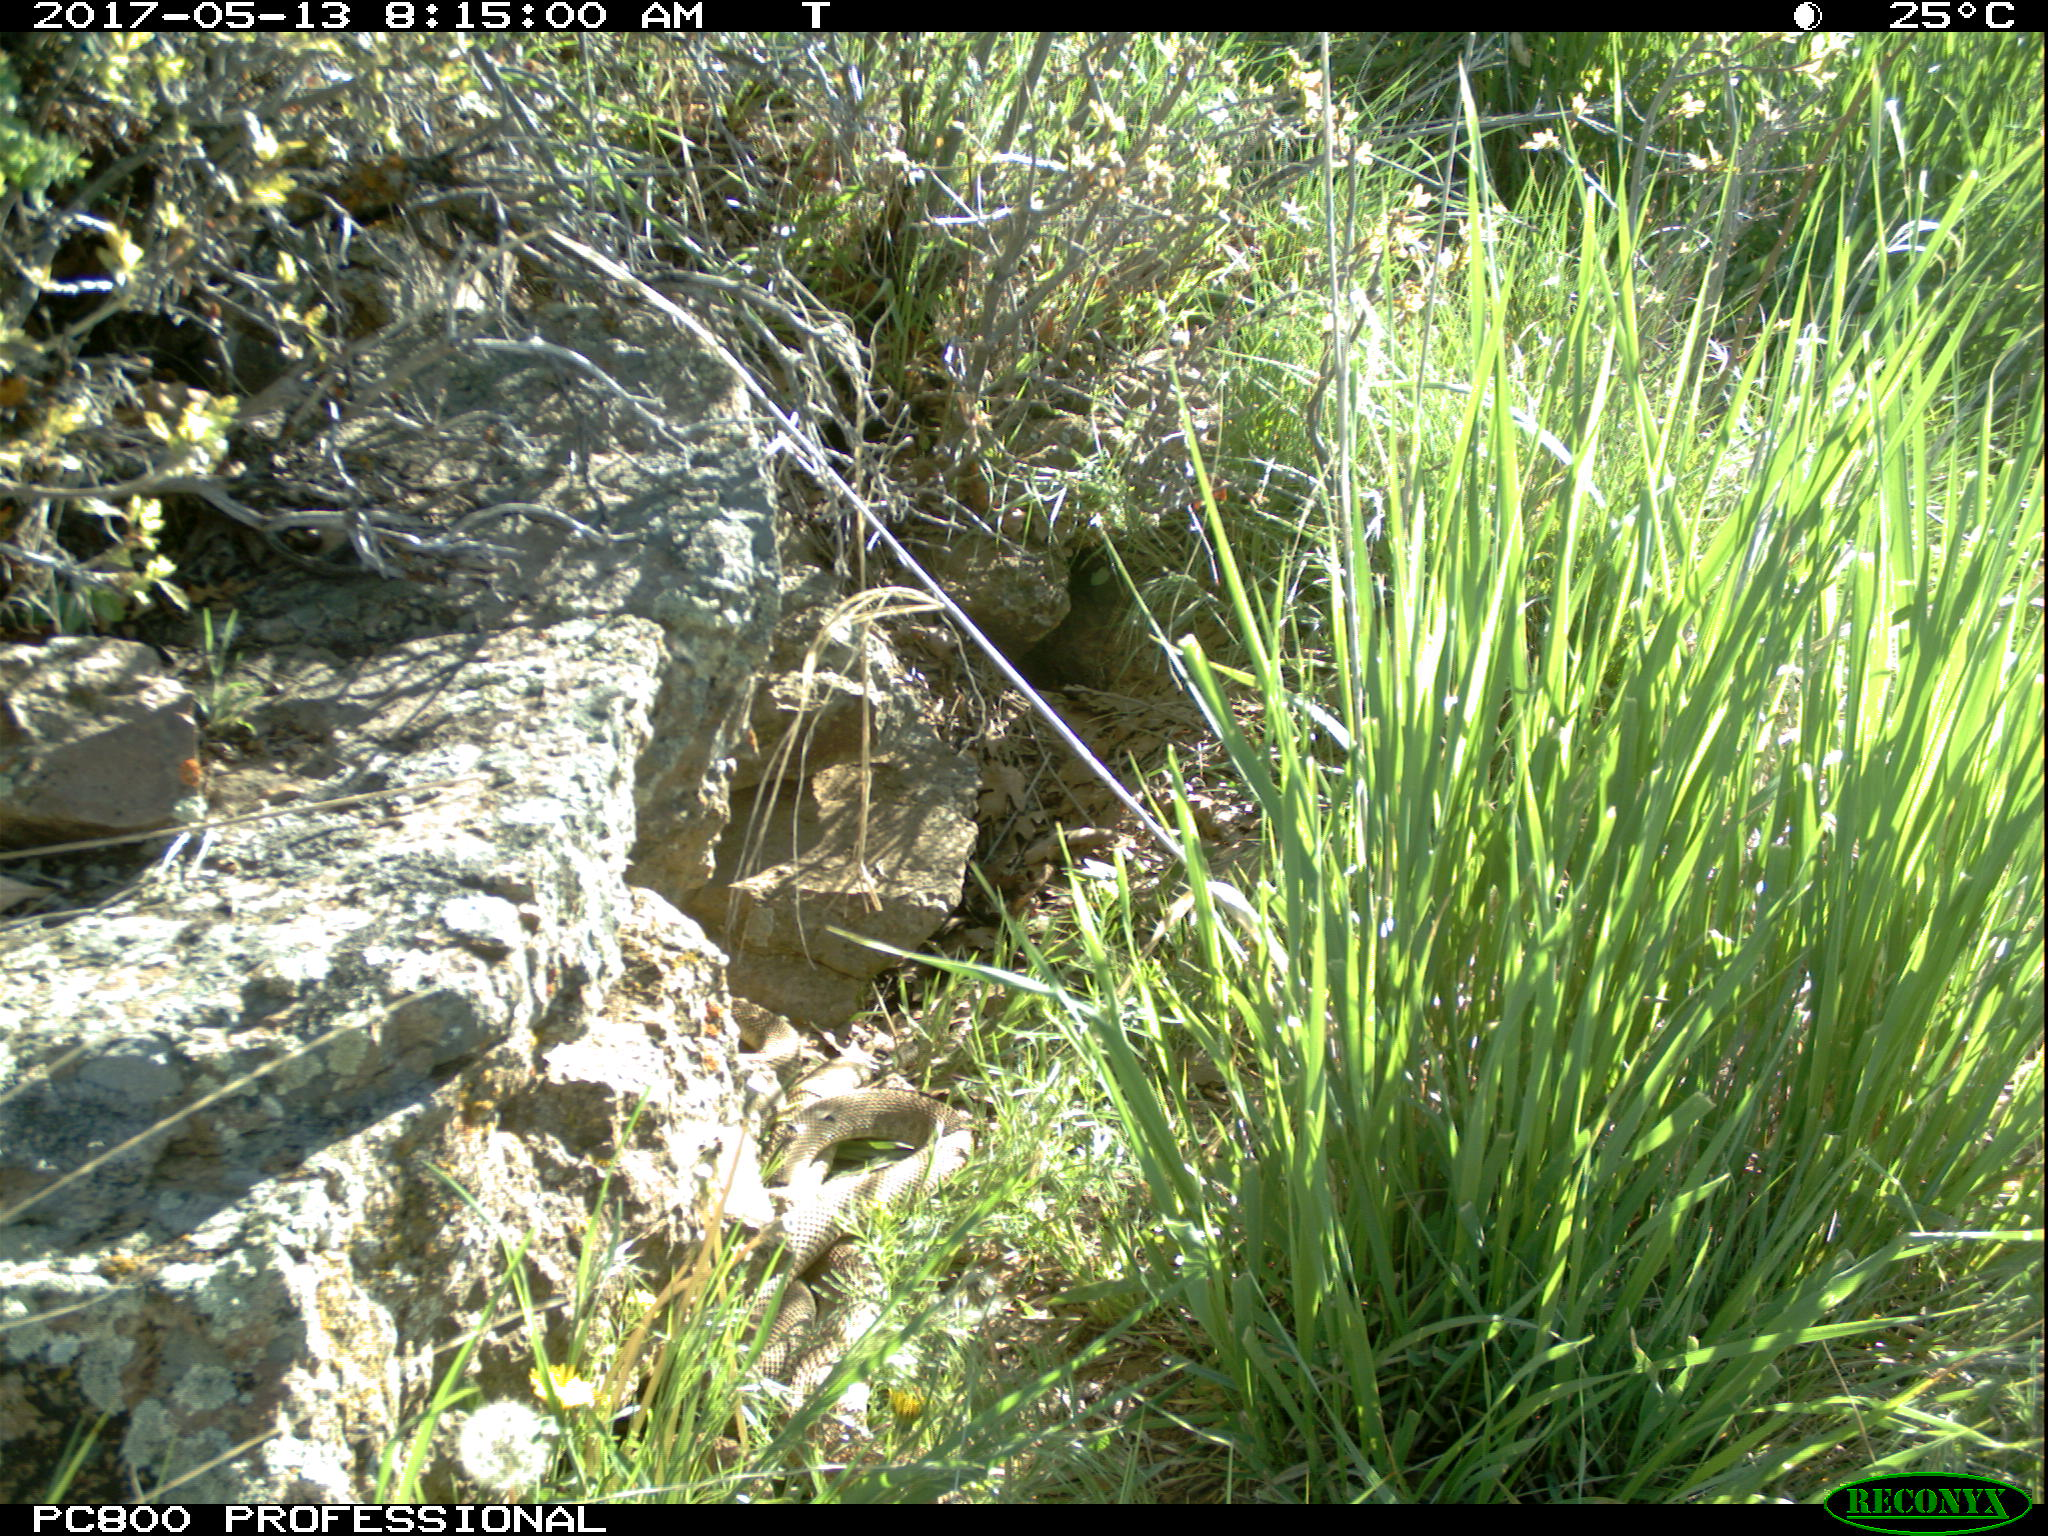snake: (769, 1091, 974, 1271), (750, 1254, 889, 1426), (722, 995, 806, 1079)
